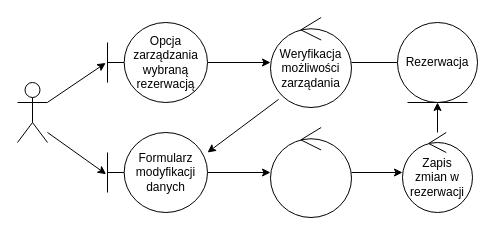
Some shapes in this 495 by 235 pixel diagram are drawn without their labels. The shapes that lost their labels are listed below. From the top down, each one's centre as x and y in pixels, then its label:
At pixel 32 112: "Klient".
At pixel 311 172: "Weryfikacja poprawności nowych danych".
